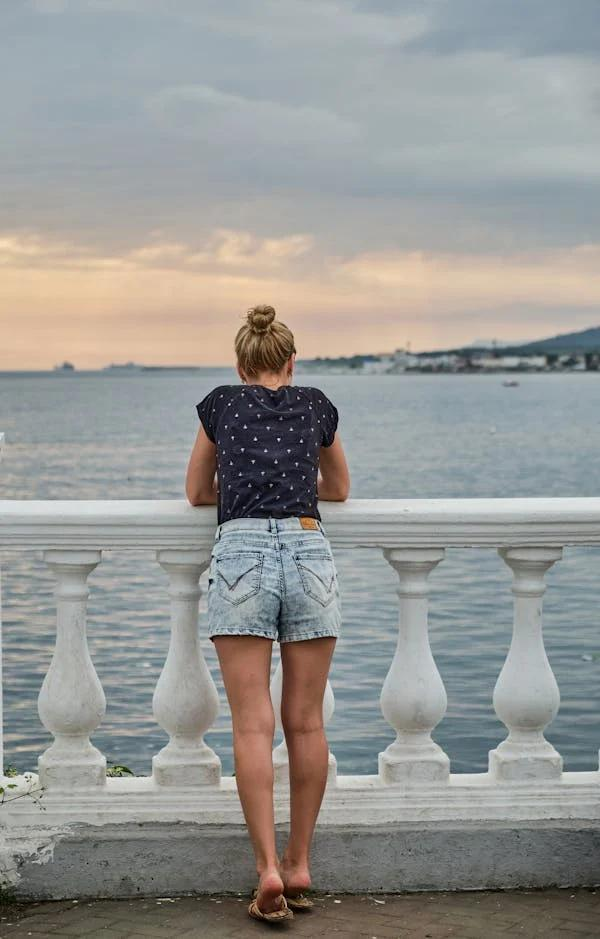Human: (196, 286, 360, 936)
